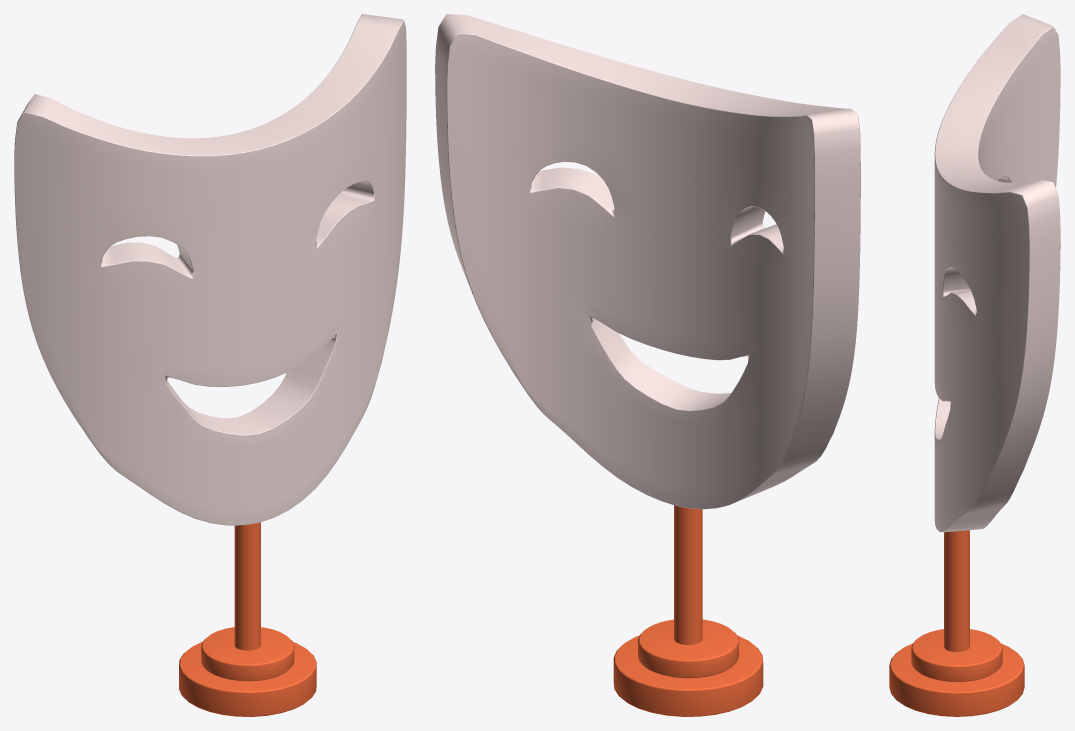
File: Public_12_Decor_Mask_Ttheatre_1.glb
3 views of the same model, side by side, from view 1: azimuth 30°, elevation 25°; view 2: azimuth 150°, elevation 25°; view 3: azimuth 270°, elevation 25° (orthographic). The views are drawn at different scales.
Visible parts, largest first — view 1: Public_12_Decor_Mask_Ttheatre_1; view 2: Public_12_Decor_Mask_Ttheatre_1; view 3: Public_12_Decor_Mask_Ttheatre_1.
Boxes of the visible parts, x1,y1,x2,y2 form: Public_12_Decor_Mask_Ttheatre_1: (14, 14, 406, 716); Public_12_Decor_Mask_Ttheatre_1: (435, 14, 860, 716); Public_12_Decor_Mask_Ttheatre_1: (889, 14, 1060, 716).
Bounding box in the file's own units: 2.01 × 2.94 × 0.7789.
1 material, 1 textured.
